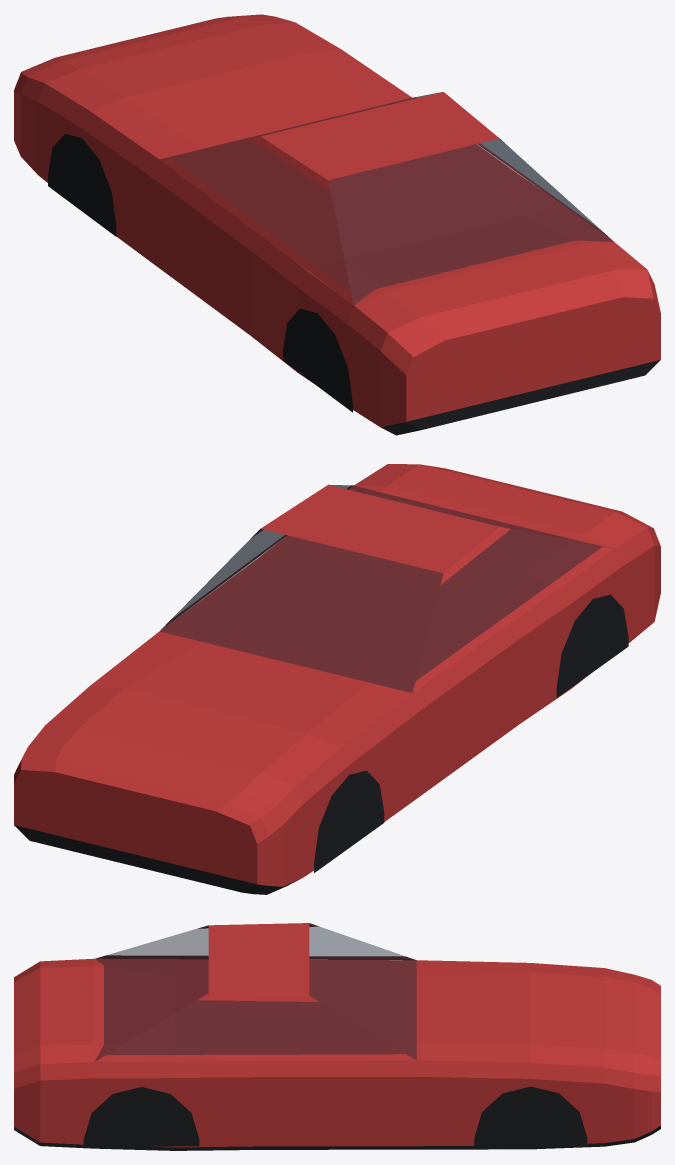
Rendered from muscle_lod.glb.
The picture shows the model from 3 angles, top to bottom: view 1: azimuth 30°, elevation 25°; view 2: azimuth 150°, elevation 25°; view 3: azimuth 270°, elevation 25°; orthographic projection. The views are drawn at different scales.
Parts seen in each view (by area): view 1: Body; view 2: Body; view 3: Body.
Part boxes in pixels (bbox=[...]): Body: bbox=[14, 14, 660, 435]; Body: bbox=[14, 464, 660, 894]; Body: bbox=[14, 923, 660, 1150].
Bounding box in the file's own units: 1.93 × 1.18 × 4.82.
